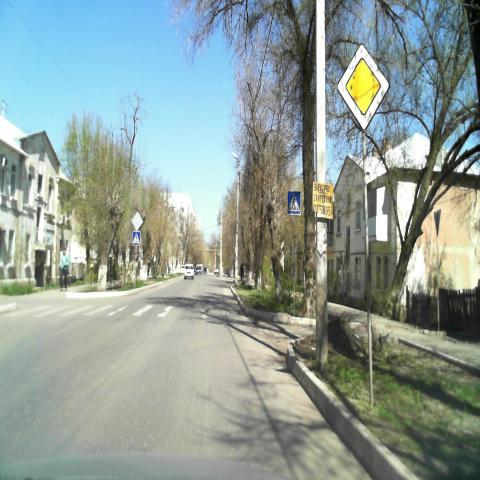2_1: (338, 52, 390, 134)
5_19_1: (288, 188, 301, 213), (132, 232, 141, 248)
